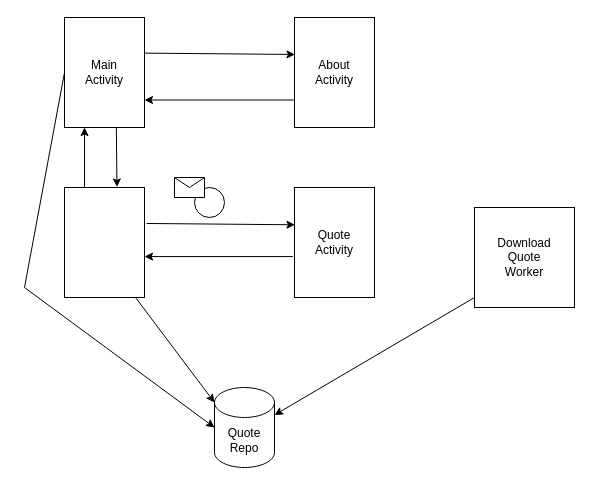
Some shapes in this 592 by 485 pixel diagram are drawn without their labels. The centre of each missing label's shape, as x and y in pixels:
dto: point 209,202
History Activity: point 104,242
